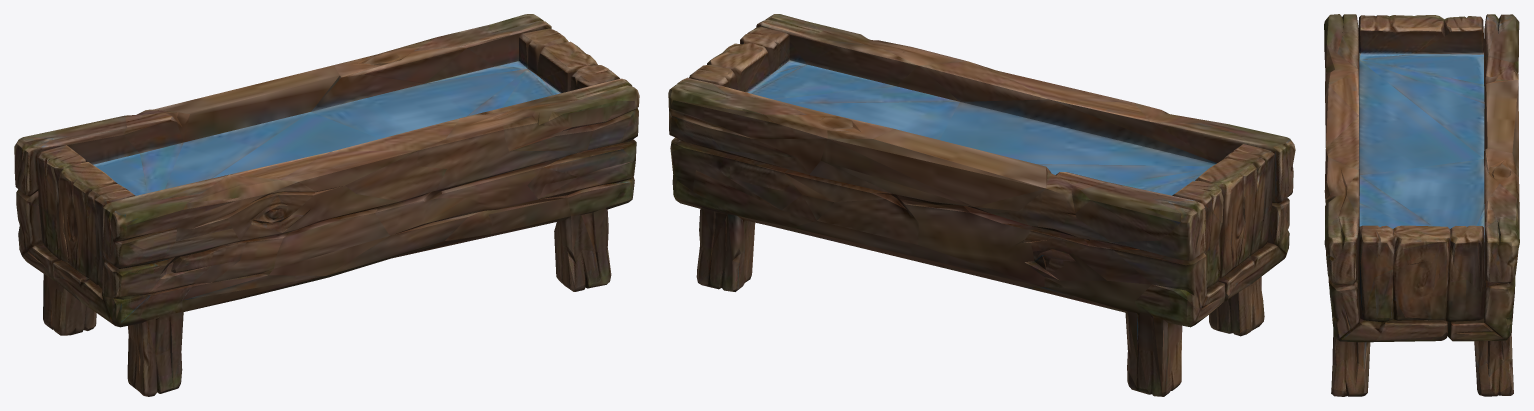
The model's file is trough_3d.glb.
3 renders of one model, left to right at view 1: azimuth 30°, elevation 25°; view 2: azimuth 150°, elevation 25°; view 3: azimuth 270°, elevation 25°, orthographic. The views are drawn at different scales.
Visible parts, largest first — view 1: Mesh_0; view 2: Mesh_0; view 3: Mesh_0.
Boxes of the visible parts, x1,y1,x2,y2 form: Mesh_0: [14, 14, 639, 396]; Mesh_0: [668, 14, 1295, 396]; Mesh_0: [1324, 14, 1519, 396].
Bounding box in the file's own units: 1.61 × 0.5625 × 0.583.
1 material, 1 textured.
